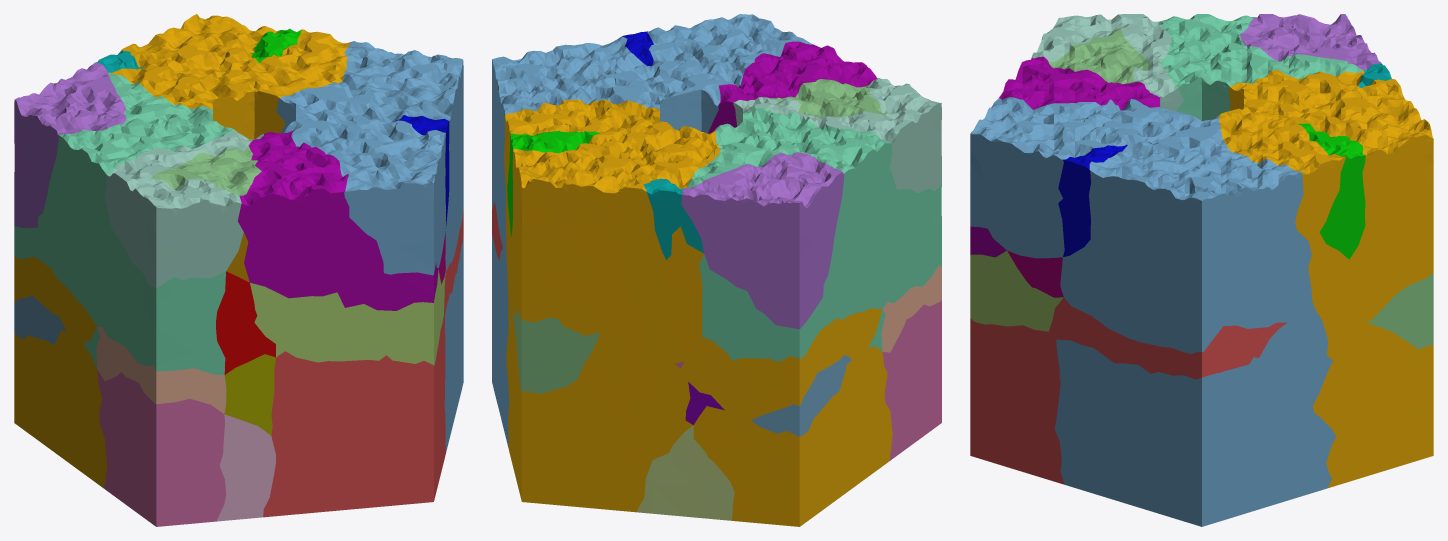
File: fractured_2_28pcs.glb
3 views of the same model, side by side, from view 1: azimuth 30°, elevation 25°; view 2: azimuth 150°, elevation 25°; view 3: azimuth 270°, elevation 25° (orthographic).
Visible parts, largest first — view 1: piece_5.obj, piece_0.obj, piece_4.obj, piece_1.obj, piece_2.obj, piece_3.obj, piece_12.obj, piece_7.obj, piece_6.obj, piece_14.obj, piece_15.obj, piece_17.obj (+7 smaller); view 2: piece_0.obj, piece_4.obj, piece_5.obj, piece_6.obj, piece_12.obj, piece_3.obj, piece_2.obj, piece_13.obj, piece_9.obj, piece_10.obj, piece_11.obj, piece_20.obj (+4 smaller); view 3: piece_5.obj, piece_0.obj, piece_1.obj, piece_4.obj, piece_2.obj, piece_12.obj, piece_7.obj, piece_6.obj, piece_16.obj, piece_18.obj, piece_11.obj, piece_9.obj (+1 smaller).
Boxes of the visible parts, x1,y1,x2,y2 form: piece_5.obj: (276, 41, 463, 452); piece_0.obj: (14, 14, 350, 488); piece_4.obj: (14, 72, 235, 374); piece_1.obj: (263, 210, 463, 517); piece_2.obj: (238, 130, 438, 310); piece_3.obj: (97, 370, 226, 526); piece_12.obj: (104, 131, 263, 288); piece_7.obj: (250, 269, 445, 365); piece_6.obj: (14, 62, 126, 227); piece_14.obj: (216, 414, 275, 521); piece_15.obj: (96, 326, 226, 413); piece_17.obj: (216, 271, 275, 374); piece_0.obj: (504, 99, 892, 526); piece_4.obj: (687, 108, 941, 361); piece_5.obj: (492, 14, 812, 446); piece_6.obj: (681, 152, 844, 329); piece_12.obj: (733, 78, 941, 193); piece_3.obj: (882, 300, 941, 460); piece_2.obj: (708, 41, 877, 133); piece_13.obj: (637, 425, 734, 520); piece_9.obj: (513, 311, 599, 393); piece_10.obj: (751, 355, 851, 436); piece_11.obj: (771, 79, 886, 117); piece_20.obj: (644, 178, 704, 259); piece_5.obj: (970, 97, 1335, 526); piece_0.obj: (1219, 70, 1433, 487); piece_1.obj: (970, 298, 1286, 484); piece_4.obj: (1159, 14, 1363, 121); piece_2.obj: (970, 56, 1159, 257); piece_12.obj: (1031, 14, 1183, 111); piece_7.obj: (970, 250, 1063, 331); piece_6.obj: (1240, 14, 1381, 70); piece_16.obj: (1298, 123, 1365, 259); piece_18.obj: (1058, 145, 1127, 256); piece_11.obj: (1048, 29, 1150, 84); piece_9.obj: (1367, 273, 1433, 349).
Bounding box in the file's own units: 0.9511 × 0.7776 × 1.
